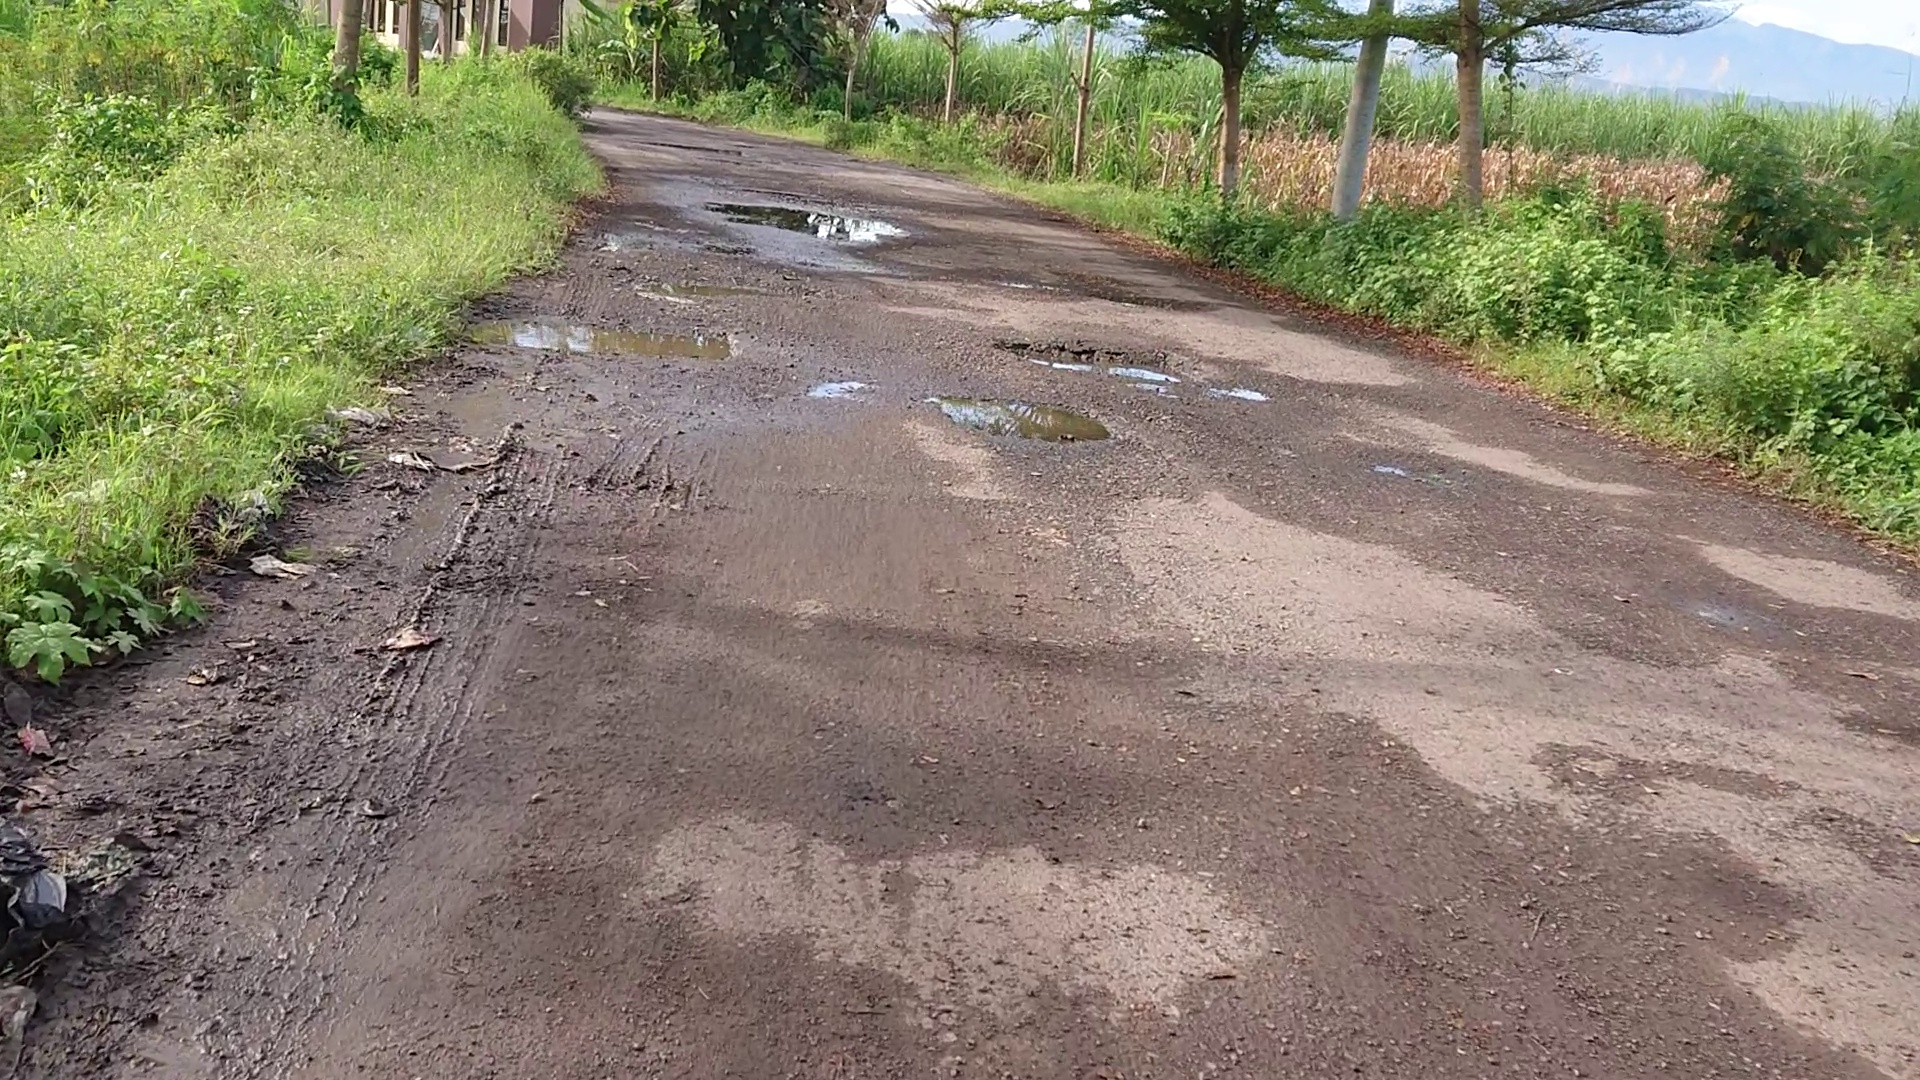Berlubang: (911, 320, 1199, 444), (705, 199, 895, 243), (1000, 265, 1167, 309)
